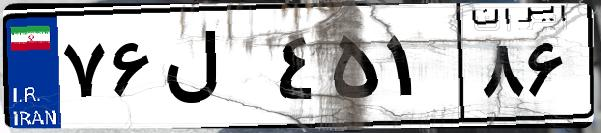1: (385, 28, 445, 110)
4: (270, 28, 330, 110)
5: (330, 28, 385, 110)
6: (525, 38, 570, 115), (110, 28, 158, 98)
7: (57, 26, 110, 100)
8: (475, 38, 525, 113)
ل: (158, 20, 270, 120)
